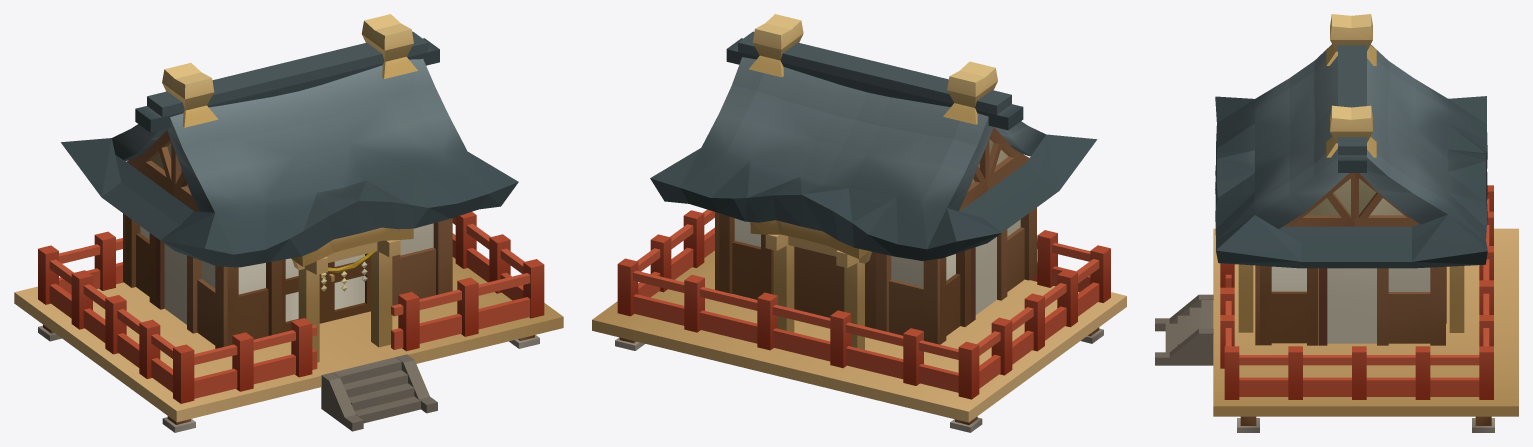
The model's file is House_Shrine.fbx.
The picture shows the model from 3 angles, left to right: view 1: azimuth 30°, elevation 25°; view 2: azimuth 150°, elevation 25°; view 3: azimuth 270°, elevation 25°; orthographic projection. The views are drawn at different scales.
Parts seen in each view (by area): view 1: Shrine_Roof_wSupport.001, Shrine_Fence.001, Shrine_Base.001, House_Wall_Corner.017, House_Wall_Corner.020, Shrine_Stairs_Mid.001, House_Door_1m_R.002, Shrine_Stairs_Side.001, House_Wall_Corner.018, House_Wall_1m.011, House_Door_1m_L.002, Shrine_BaseSupport.001; view 2: Shrine_Roof_wSupport.001, Shrine_Fence.001, Shrine_Base.001, House_Wall_Corner.018, House_Wall_Corner.019, House_Wall_2m_Brown.003, House_Wall_Corner.017, House_Wall_1m.011, Shrine_BaseSupport.001; view 3: Shrine_Roof_wSupport.001, Shrine_Base.001, Shrine_Fence.001, House_Wall_Corner.019, House_Wall_Corner.020, House_Wall_1m.008, Shrine_Stairs_Side.001, Shrine_Stairs_Mid.001, Shrine_BaseSupport.001.
Part boxes in pixels (bbox=[...]): Shrine_Roof_wSupport.001: bbox=[61, 14, 518, 362]; Shrine_Fence.001: bbox=[38, 212, 544, 403]; Shrine_Base.001: bbox=[14, 257, 563, 422]; House_Wall_Corner.017: bbox=[187, 255, 281, 348]; House_Wall_Corner.020: bbox=[392, 218, 452, 305]; Shrine_Stairs_Mid.001: bbox=[333, 357, 420, 423]; House_Door_1m_R.002: bbox=[326, 253, 370, 321]; Shrine_Stairs_Side.001: bbox=[321, 354, 437, 431]; House_Wall_Corner.018: bbox=[123, 213, 155, 305]; House_Wall_1m.011: bbox=[155, 237, 186, 324]; House_Door_1m_L.002: bbox=[282, 258, 326, 332]; Shrine_BaseSupport.001: bbox=[38, 325, 539, 432]; Shrine_Roof_wSupport.001: bbox=[650, 14, 1097, 349]; Shrine_Fence.001: bbox=[617, 209, 1110, 399]; Shrine_Base.001: bbox=[592, 250, 1126, 422]; House_Wall_Corner.018: bbox=[876, 249, 970, 344]; House_Wall_Corner.019: bbox=[715, 212, 773, 299]; House_Wall_2m_Brown.003: bbox=[794, 246, 875, 328]; House_Wall_Corner.017: bbox=[997, 207, 1036, 300]; House_Wall_1m.011: bbox=[971, 237, 996, 322]; Shrine_BaseSupport.001: bbox=[615, 327, 1103, 432]; Shrine_Roof_wSupport.001: bbox=[1215, 14, 1487, 332]; Shrine_Base.001: bbox=[1213, 228, 1518, 416]; Shrine_Fence.001: bbox=[1220, 185, 1493, 399]; House_Wall_Corner.019: bbox=[1377, 266, 1446, 345]; House_Wall_Corner.020: bbox=[1255, 265, 1318, 345]; House_Wall_1m.008: bbox=[1318, 268, 1376, 345]; Shrine_Stairs_Side.001: bbox=[1155, 294, 1213, 365]; Shrine_Stairs_Mid.001: bbox=[1165, 300, 1213, 352]; Shrine_BaseSupport.001: bbox=[1237, 416, 1494, 432].
Bounding box in the file's own units: 7.2 × 5.28 × 6.23.
Materials: 1 (1 with a texture image).
